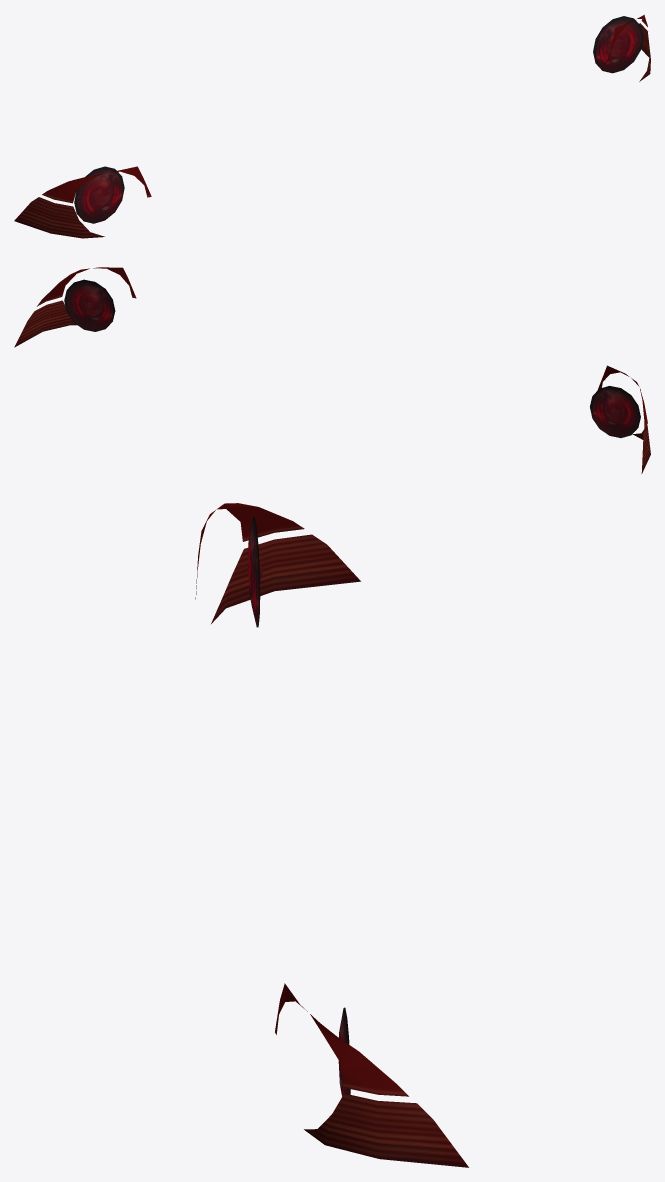
The model's file is tozzo98_brakelights_ucb_lights_and_glass_0.006_lev3.glb.
The picture shows the model from 3 angles, top to bottom: view 1: azimuth 30°, elevation 25°; view 2: azimuth 150°, elevation 25°; view 3: azimuth 270°, elevation 25°; orthographic projection. The views are drawn at different scales.
Visible parts, largest first — view 1: tozzo98_brakelights_ucb_lights_and_glass_0.006_lev3; view 2: tozzo98_brakelights_ucb_lights_and_glass_0.006_lev3; view 3: tozzo98_brakelights_ucb_lights_and_glass_0.006_lev3.
Part boxes in pixels (x1,y1,x2,y2): tozzo98_brakelights_ucb_lights_and_glass_0.006_lev3: (14,14,650,238); tozzo98_brakelights_ucb_lights_and_glass_0.006_lev3: (14,267,650,473); tozzo98_brakelights_ucb_lights_and_glass_0.006_lev3: (195,503,468,1167).
Size of the model in its own units: 1.46 by 0.1432 by 0.288.
Materials: 1 (1 with a texture image).
